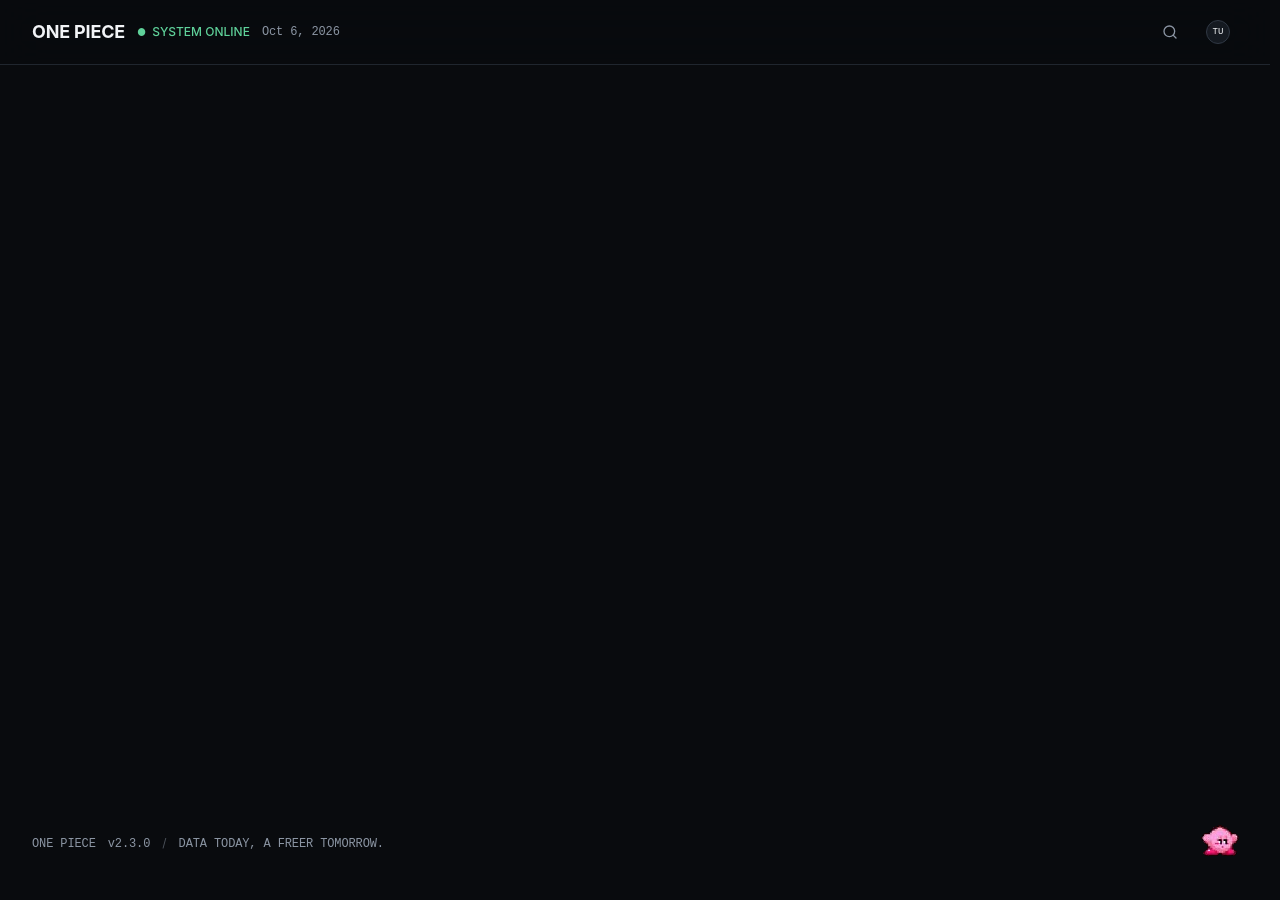
Test: Layout pixel pet and navigator › highlights the current page with the accent state in the navigator
This screenshot has width=1280, height=900.
Click the button named "pixel pet" at x=1220, y=840, box [1192,812,1248,868]
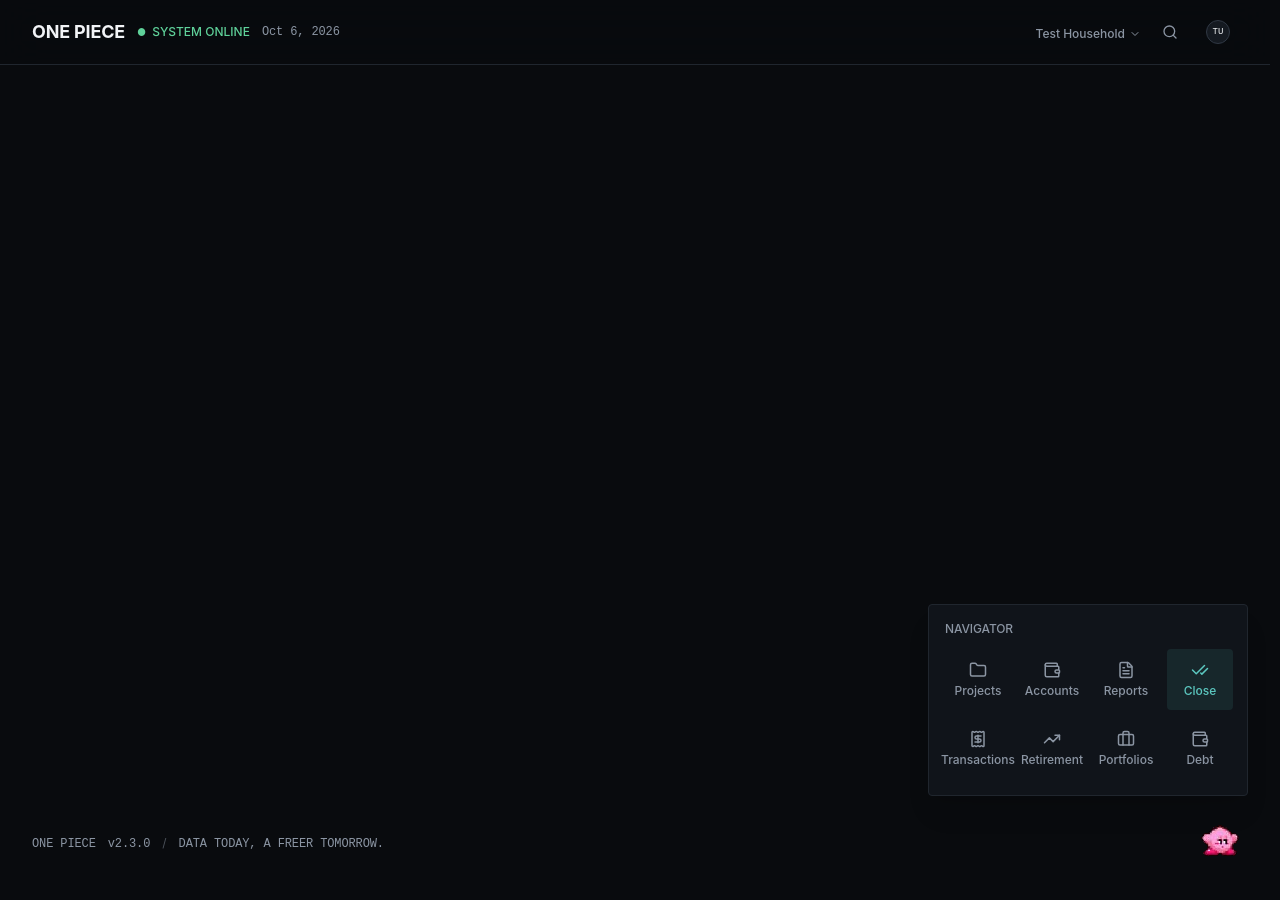
expect the link to "/close" is shown: met, box [1167,649,1233,710]
